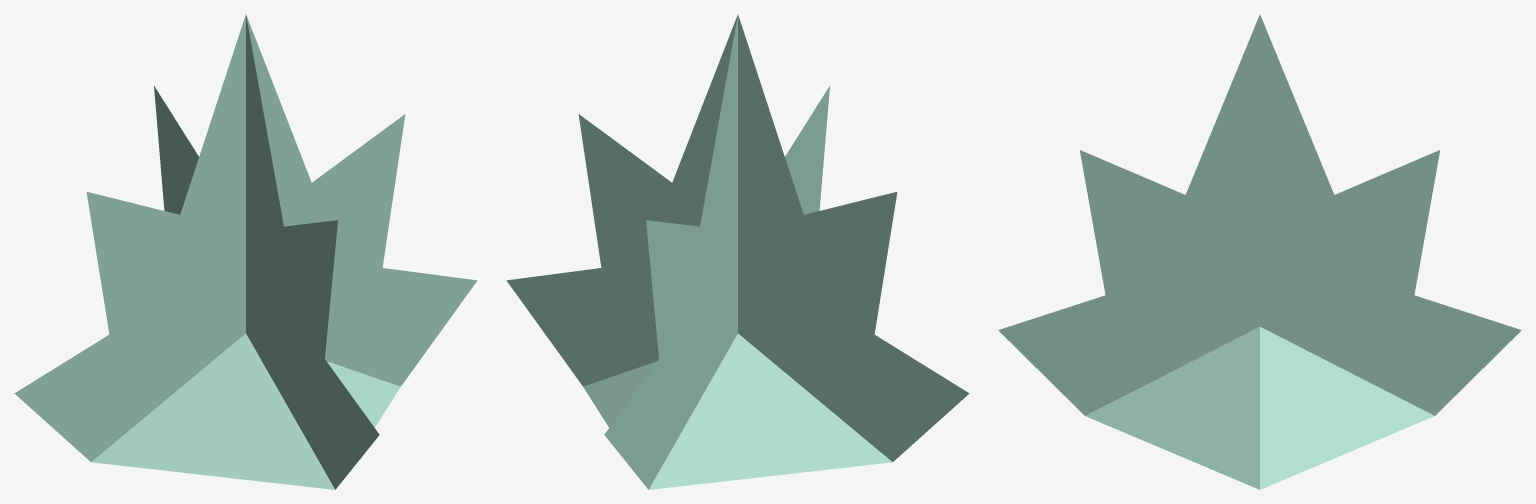
The model's file is maguey.glb.
3 views of the same model, side by side, from view 1: azimuth 30°, elevation 25°; view 2: azimuth 150°, elevation 25°; view 3: azimuth 270°, elevation 25° (orthographic). The views are drawn at different scales.
Visible parts, largest first — view 1: plant_flatShort; view 2: plant_flatShort; view 3: plant_flatShort.
Boxes of the visible parts, x1=… form: plant_flatShort: x1=14, y1=14, x2=477, y2=489; plant_flatShort: x1=506, y1=14, x2=969, y2=489; plant_flatShort: x1=998, y1=14, x2=1521, y2=489.
Size of the model in its own units: 0.2776 by 0.2351 by 0.2776.
